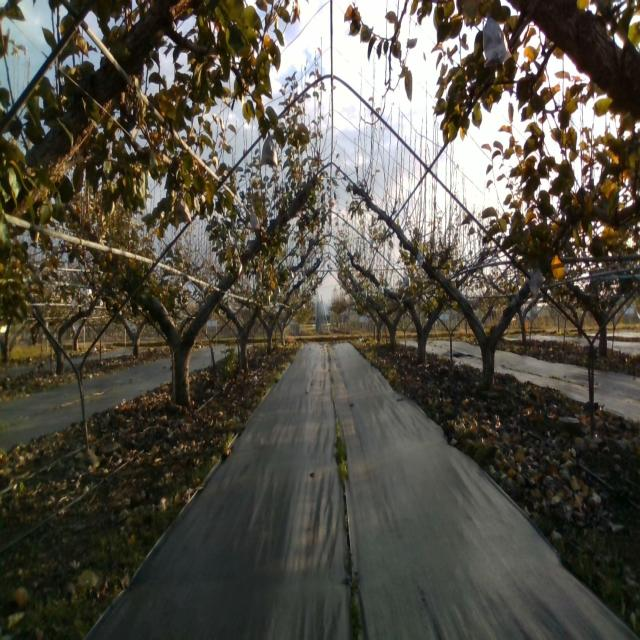pearbags: (483, 12, 512, 69), (259, 130, 278, 168), (174, 196, 192, 224), (530, 266, 543, 298), (250, 209, 260, 233)
